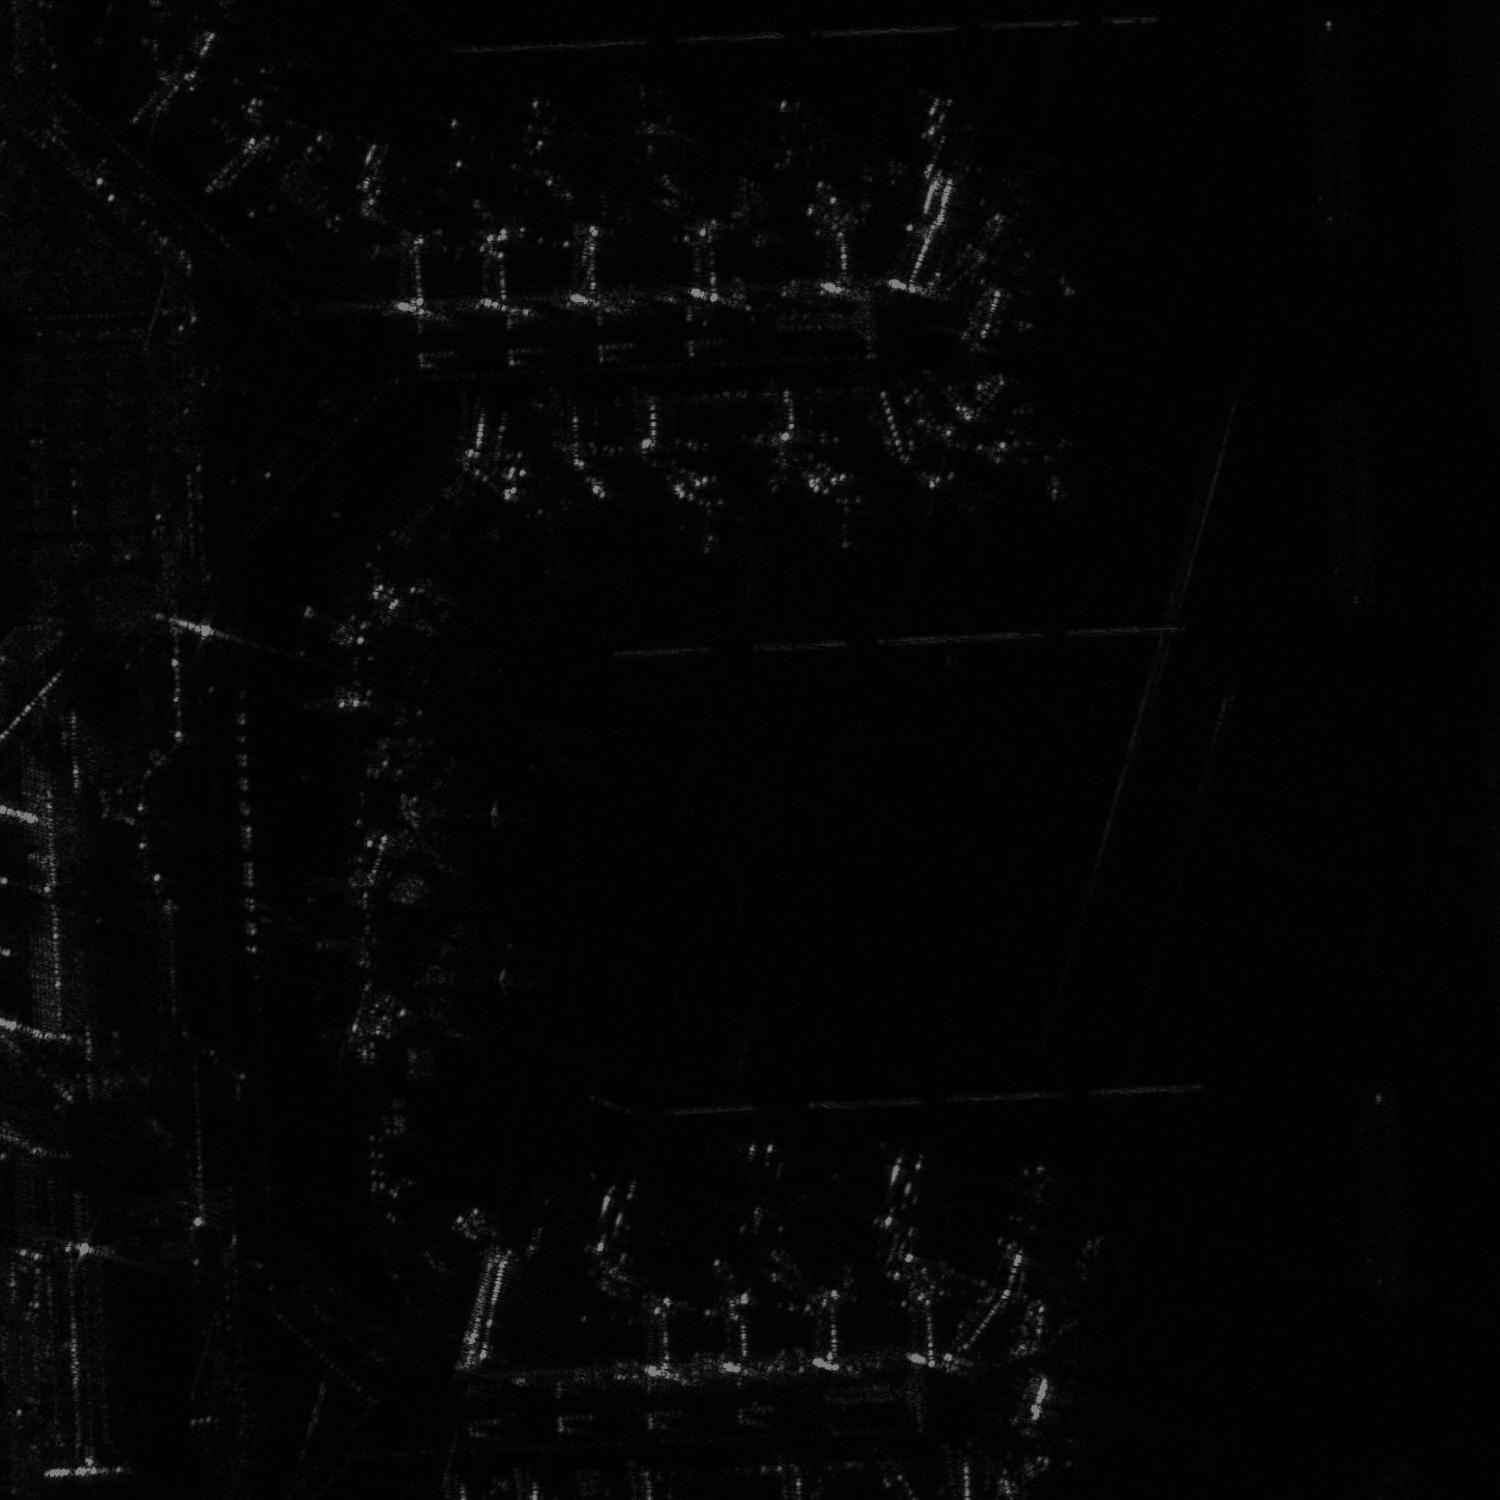A220: (434, 114, 501, 213)
A320/321: (354, 920, 512, 1045), (348, 757, 501, 885), (834, 1143, 960, 1262), (745, 98, 841, 170), (622, 91, 705, 168), (815, 473, 885, 552), (891, 89, 979, 152)
Boeing787: (673, 477, 746, 562)
other: (692, 1143, 819, 1260), (515, 98, 600, 210)
